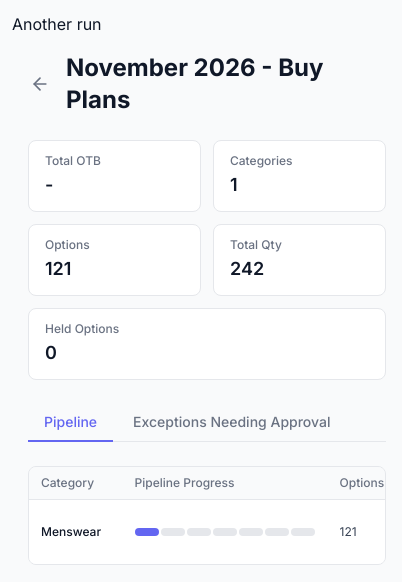
Test: Buy Plan exceptions server pagination › shows the empty state without requesting more pages when there are no exceptions
This screenshot has width=402, height=582.
Click the button "Exceptions Needing Approval": point(232, 423) [117, 404, 346, 442]
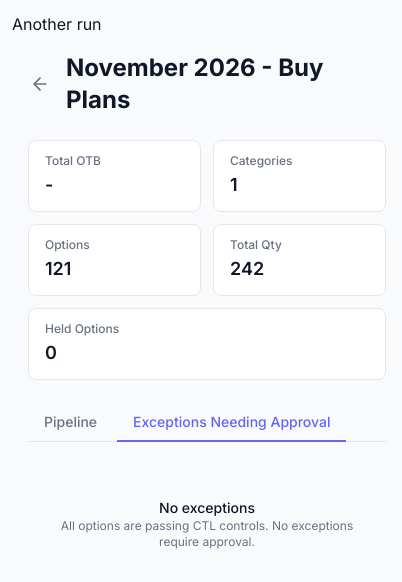
Expected: the text "No exceptions" is shown, [159, 499, 255, 516]
